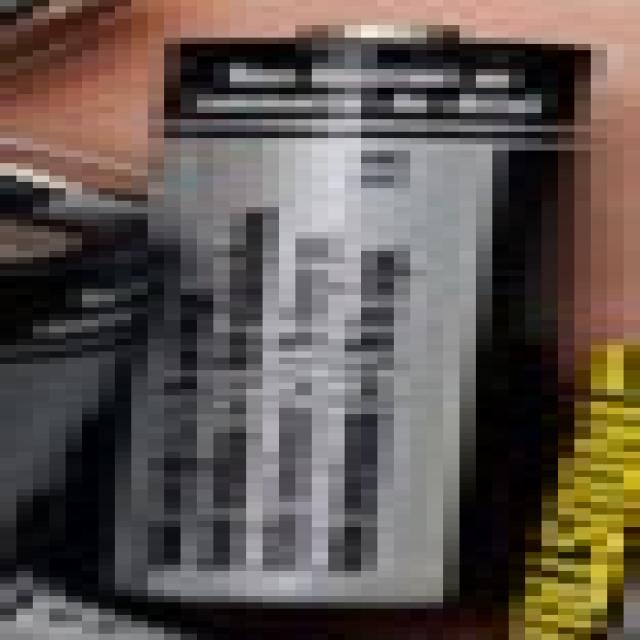battery: (33, 0, 640, 615)
